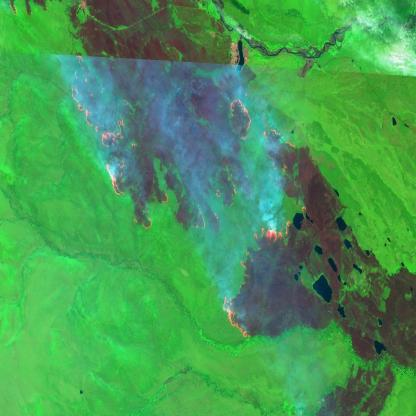fire: (68, 47, 167, 231), (178, 156, 245, 237), (219, 258, 262, 344), (249, 207, 309, 256), (262, 128, 296, 193), (228, 94, 256, 142), (7, 0, 52, 23)
